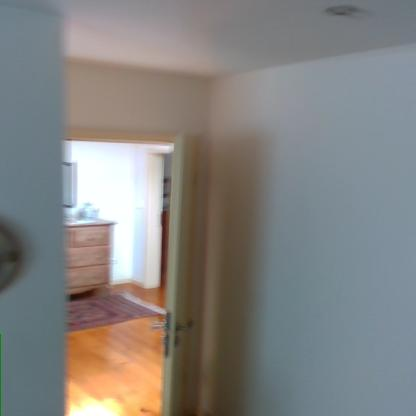semi: (49, 119, 214, 416)
